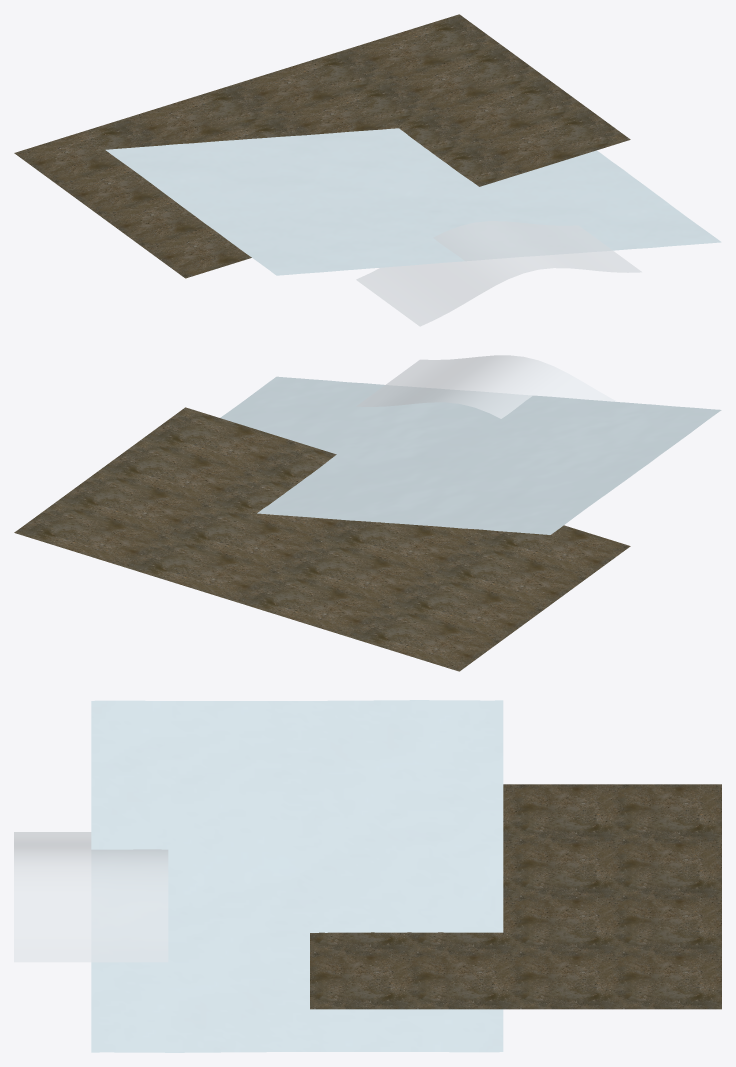
The model's file is fronts.glb.
3 views of the same model, one above another, from view 1: azimuth 30°, elevation 25°; view 2: azimuth 150°, elevation 25°; view 3: azimuth 270°, elevation 25° (orthographic). The views are drawn at different scales.
Parts seen in each view (by area): view 1: Front_Cold, Front_Warm, Front_Occlusion; view 2: Front_Warm, Front_Cold, Front_Occlusion; view 3: Front_Cold, Front_Warm, Front_Occlusion.
Part boxes in pixels (x1,y1,x2,y2): Front_Cold: (105,128,721,275); Front_Warm: (14,14,630,278); Front_Occlusion: (356,221,641,326); Front_Warm: (14,407,630,671); Front_Cold: (220,376,721,534); Front_Occlusion: (356,355,617,418); Front_Cold: (91,700,503,1052); Front_Warm: (310,784,721,1009); Front_Occlusion: (14,832,168,962).
Size of the model in its own units: 4.8 by 0.7858 by 5.5.
Materials: 3 (1 with a texture image).
